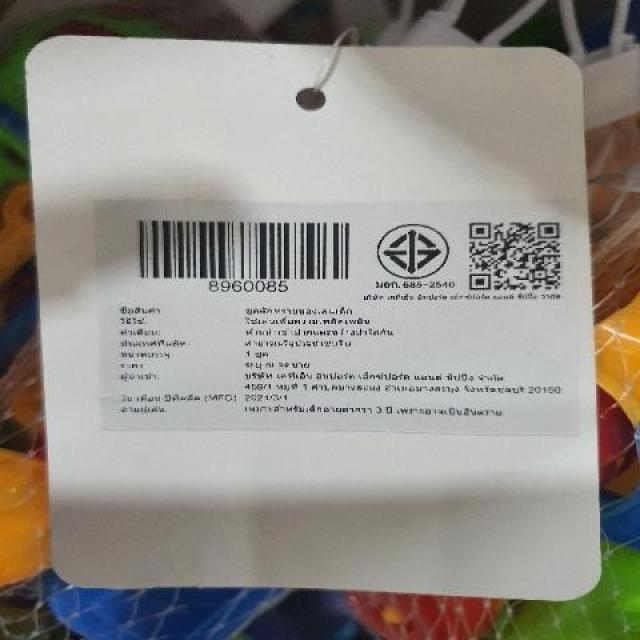Barcode: (123, 210, 365, 298)
